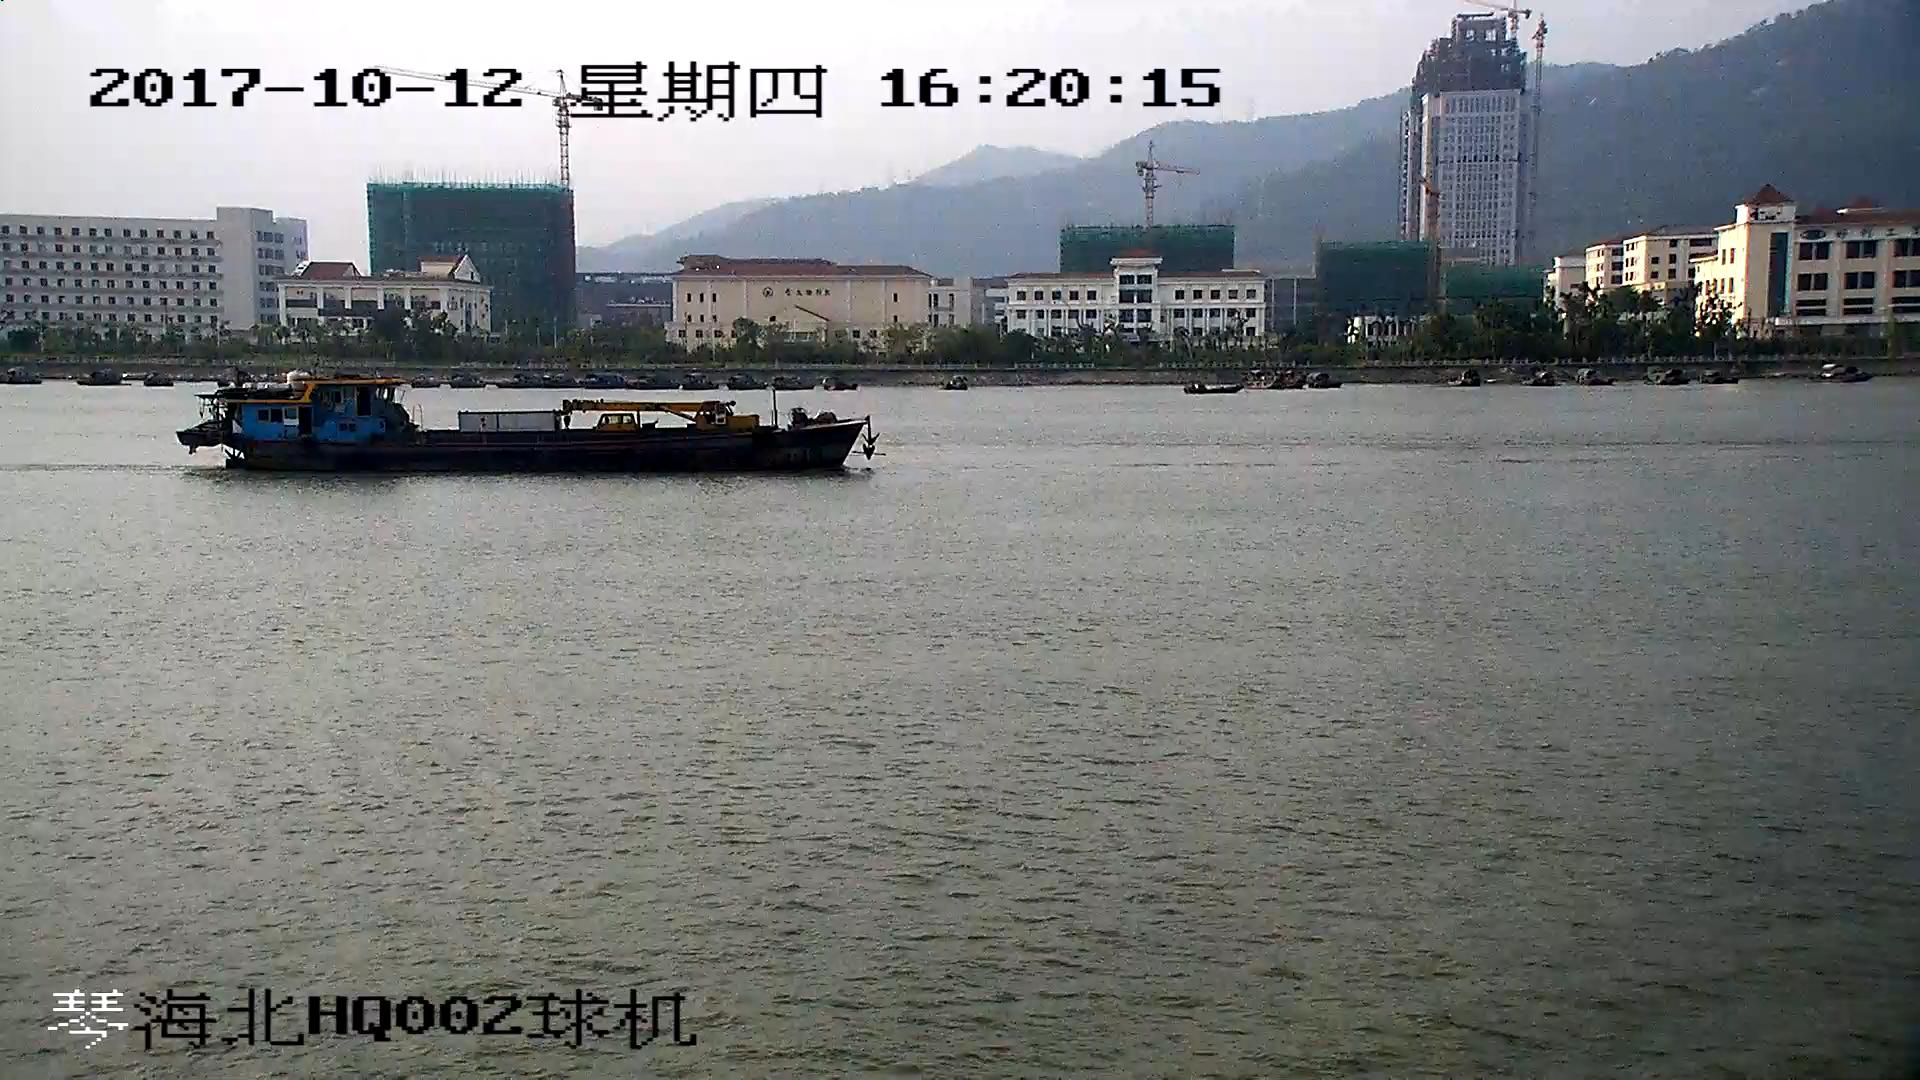fishing boat: (169, 379, 875, 477)
